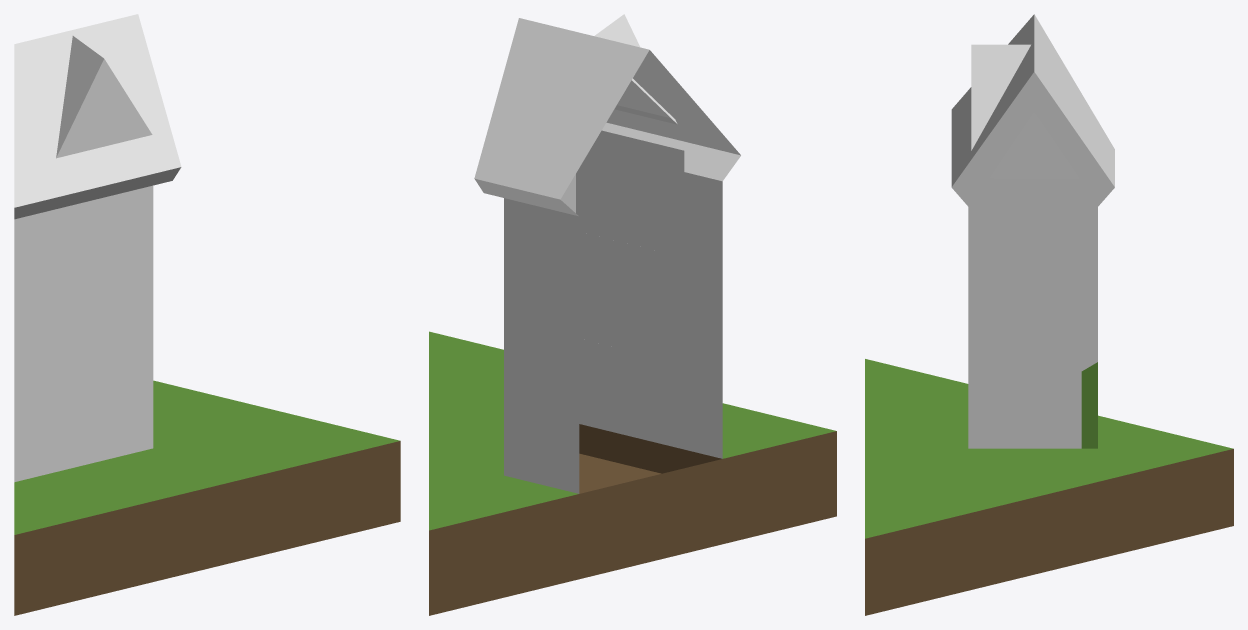
Rendered from Pis_Cantonada_E.fbx.
3 renders of one model, left to right at view 1: azimuth 30°, elevation 25°; view 2: azimuth 150°, elevation 25°; view 3: azimuth 270°, elevation 25°, orthographic. The views are drawn at different scales.
Parts seen in each view (by area): view 1: Pis_Cantonada_E, DetallCantonada.007, DetallCantonada.006, DetallTeulada.015, DetallCantonada.008; view 2: Pis_Cantonada_E, DetallCantonada.007, DetallCantonada.006, DetallCantonada.008, DetallTeulada.015; view 3: Pis_Cantonada_E, DetallCantonada.006, DetallCantonada.007, DetallCantonada.008, DetallTeulada.015, DetallAltell_1.002.
Part boxes in pixels (left/top/right/bottom): Pis_Cantonada_E: left=14, top=14, right=400, bottom=615; DetallCantonada.007: left=50, top=266, right=153, bottom=371; DetallCantonada.006: left=50, top=367, right=153, bottom=473; DetallTeulada.015: left=56, top=36, right=152, bottom=158; DetallCantonada.008: left=50, top=185, right=153, bottom=270; Pis_Cantonada_E: left=429, top=18, right=836, bottom=615; DetallCantonada.007: left=579, top=232, right=684, bottom=342; DetallCantonada.006: left=579, top=338, right=684, bottom=449; DetallCantonada.008: left=560, top=130, right=684, bottom=235; DetallTeulada.015: left=594, top=14, right=677, bottom=124; Pis_Cantonada_E: left=865, top=14, right=1233, bottom=615; DetallCantonada.006: left=968, top=371, right=1081, bottom=448; DetallCantonada.007: left=968, top=275, right=1081, bottom=352; DetallCantonada.008: left=968, top=178, right=1081, bottom=255; DetallTeulada.015: left=971, top=44, right=1030, bottom=150; DetallAltell_1.002: left=987, top=110, right=1078, bottom=178.
Size of the model in its own units: 100 by 120 by 86.6.
